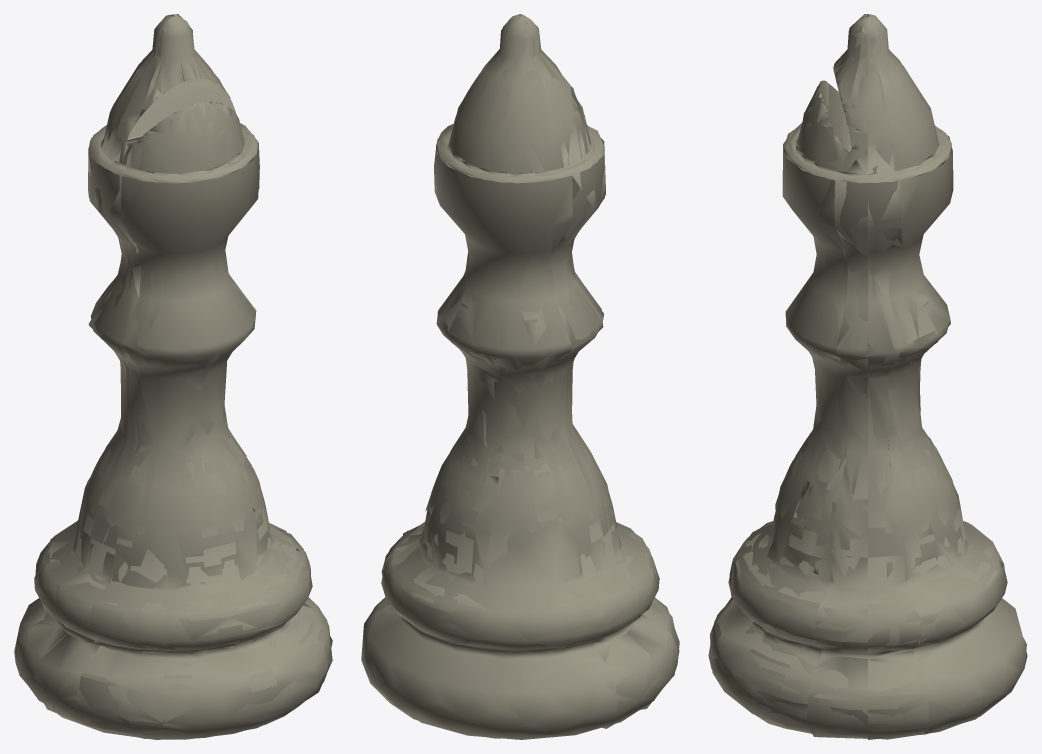
File: Bishop.FBX
The picture shows the model from 3 angles, left to right: view 1: azimuth 30°, elevation 25°; view 2: azimuth 150°, elevation 25°; view 3: azimuth 270°, elevation 25°; orthographic projection.
Parts seen in each view (by area): view 1: Bishop; view 2: Bishop; view 3: Bishop.
Part boxes in pixels (left/top/right/bottom): Bishop: left=14, top=14, right=332, bottom=739; Bishop: left=361, top=14, right=679, bottom=739; Bishop: left=708, top=14, right=1027, bottom=739.
Size of the model in its own units: 128 by 299 by 128.
